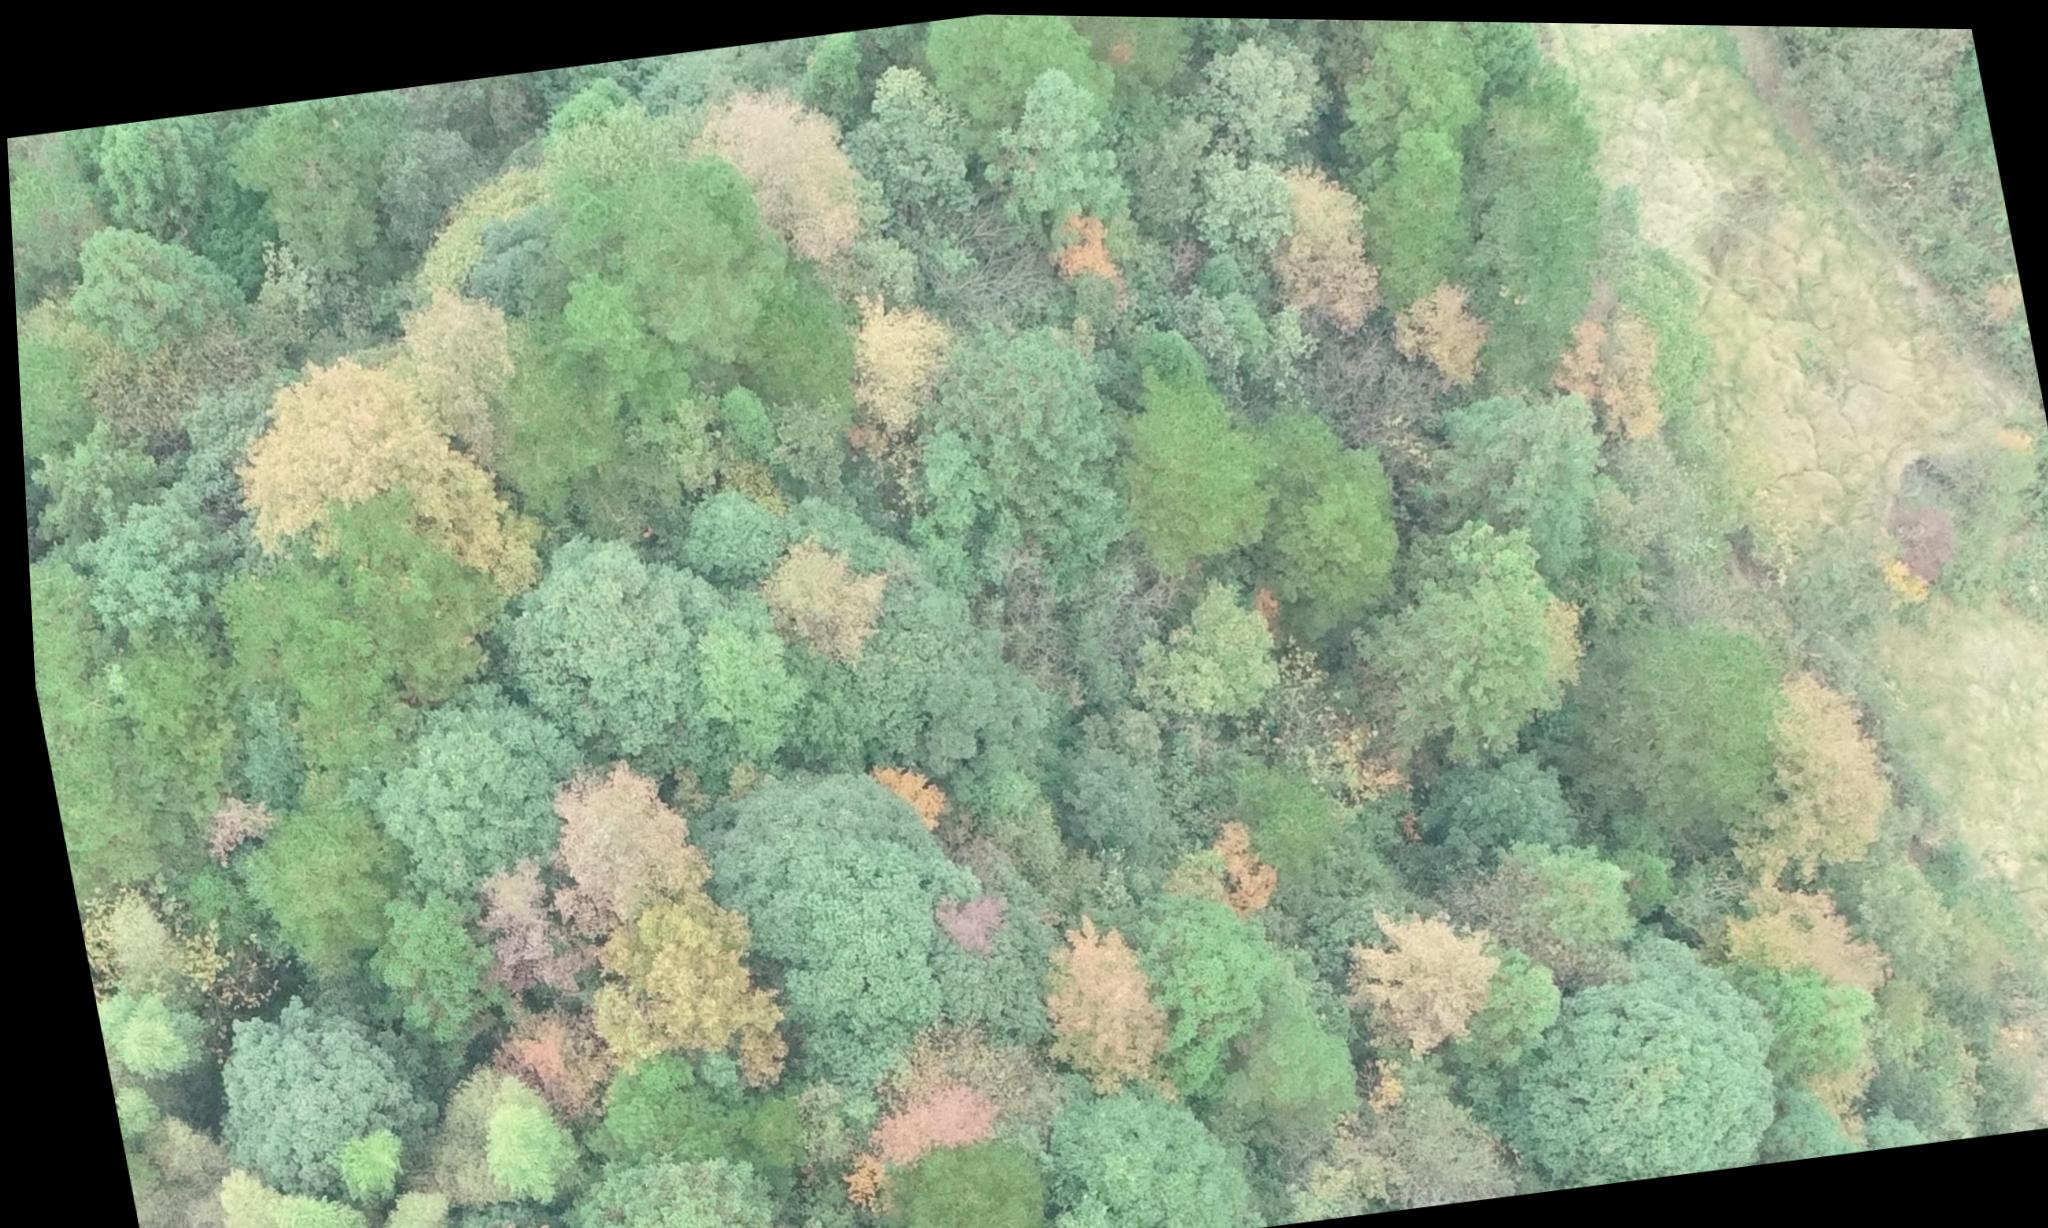heavy: (800, 1001, 1064, 1221)
light: (519, 880, 791, 1115)
